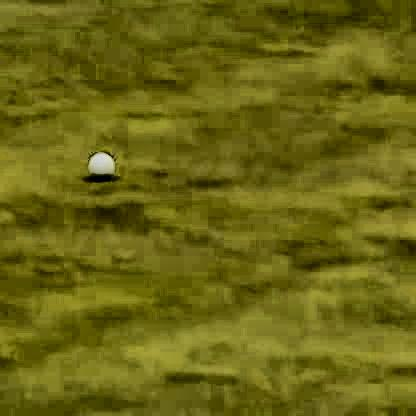golfball: (85, 148, 113, 178)
